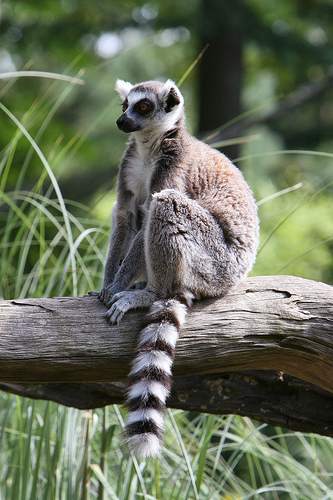cat: (97, 72, 264, 468)
